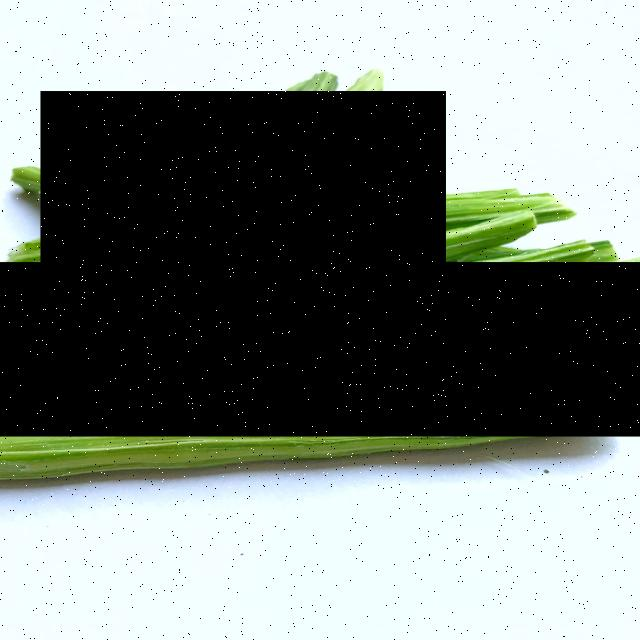Sajjyun: (0, 262, 640, 437), (41, 91, 446, 299)
